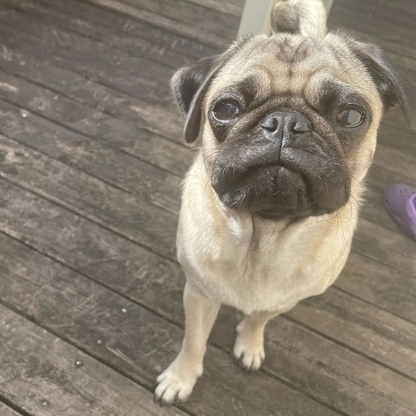Pug: (139, 1, 416, 411)
